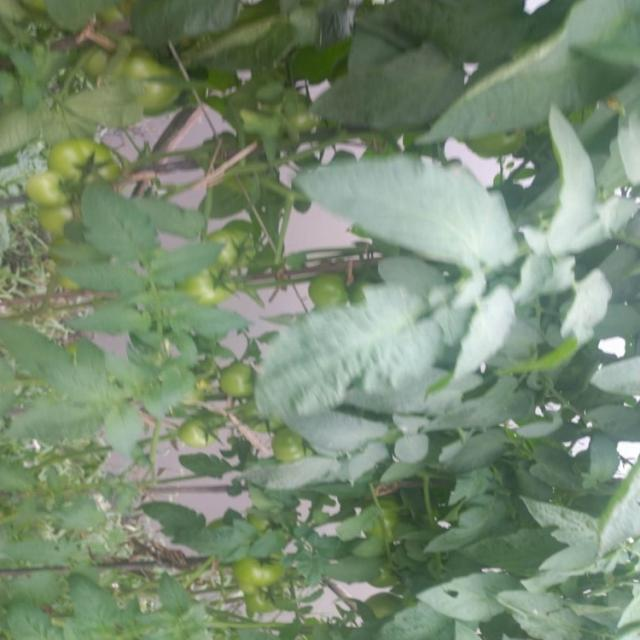tomato: (103, 44, 185, 126), (41, 123, 130, 194), (211, 222, 279, 283), (235, 549, 301, 597), (16, 164, 75, 217), (302, 268, 354, 314), (266, 420, 310, 465), (218, 353, 255, 398), (177, 410, 223, 443), (192, 266, 236, 300), (44, 198, 83, 234)
